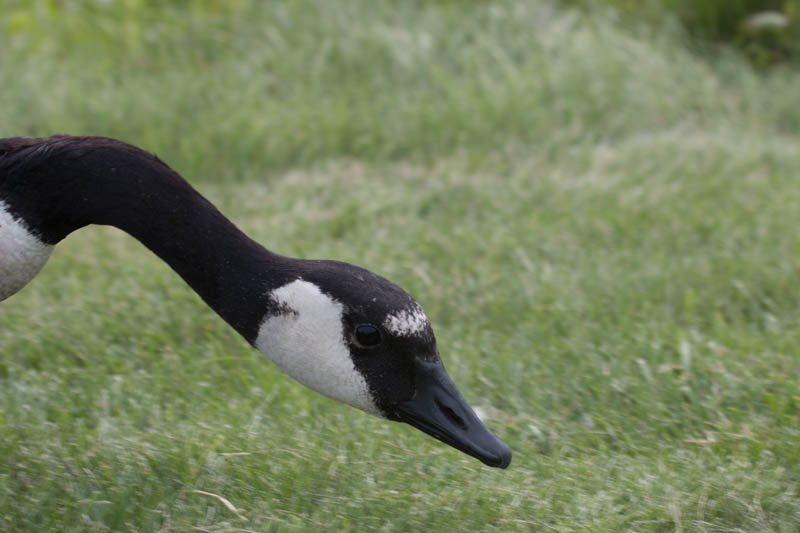goose-head: (242, 259, 512, 470)
